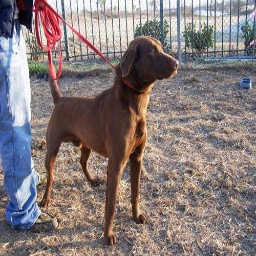dog: (39, 33, 179, 251)
